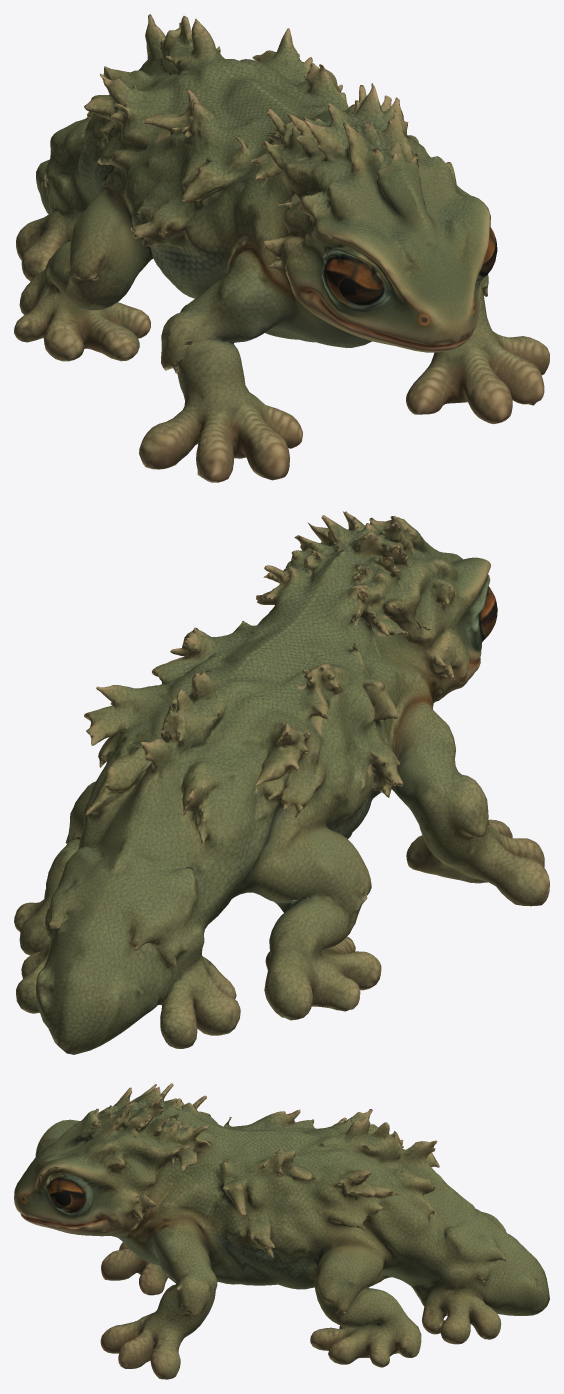
Rendered from mosshock_retex_r1.glb.
3 views of the same model, one above another, from view 1: azimuth 30°, elevation 25°; view 2: azimuth 150°, elevation 25°; view 3: azimuth 270°, elevation 25° (orthographic). The views are drawn at different scales.
Bounding box in the file's own units: 1.19 × 0.9312 × 2.
Materials: 1 (1 with a texture image).
